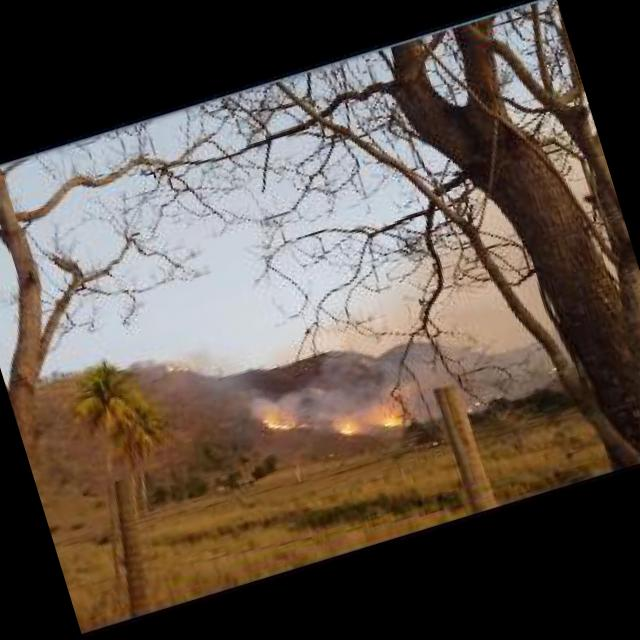fire: (258, 399, 318, 442), (160, 354, 190, 374), (378, 414, 398, 427), (338, 420, 354, 434), (464, 396, 480, 410), (544, 362, 556, 374)
